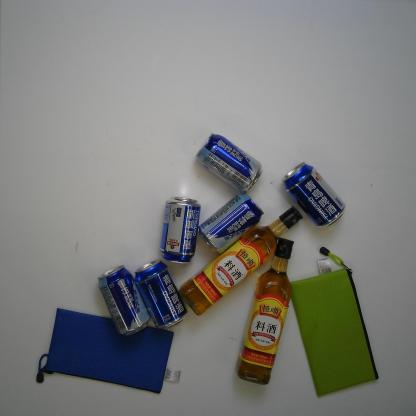Alcohol: (282, 161, 346, 228), (200, 191, 264, 254), (196, 132, 263, 192), (134, 258, 188, 330), (98, 264, 151, 336), (159, 196, 201, 264)
Seasoner: (180, 205, 304, 316), (234, 237, 295, 386)
Stationery: (289, 245, 379, 398), (36, 308, 182, 394)
